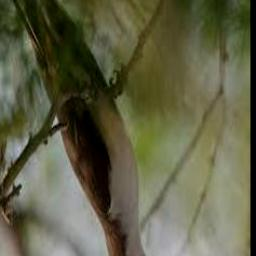Cuckoo: (1, 0, 160, 256)
